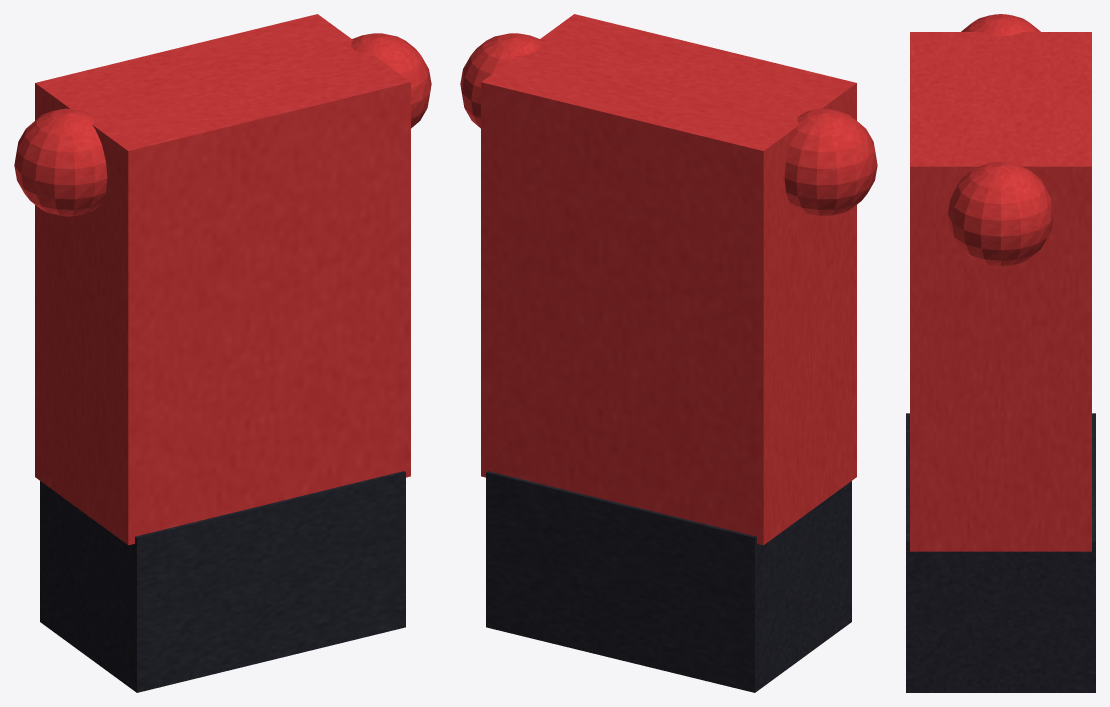
The model's file is JugB_Torso.obj.
3 renders of one model, left to right at view 1: azimuth 30°, elevation 25°; view 2: azimuth 150°, elevation 25°; view 3: azimuth 270°, elevation 25°, orthographic. The views are drawn at different scales.
Size of the model in its own units: 0.6 by 0.78 by 0.25.
1 material, 1 textured.
